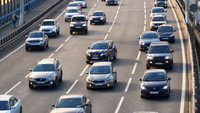car: (29, 58, 62, 88), (139, 69, 170, 98), (85, 61, 117, 88), (146, 41, 174, 68), (85, 40, 118, 62), (24, 30, 49, 51), (69, 15, 88, 33), (91, 11, 106, 24)
